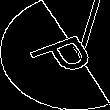P_NE: (15, 27, 95, 83)
